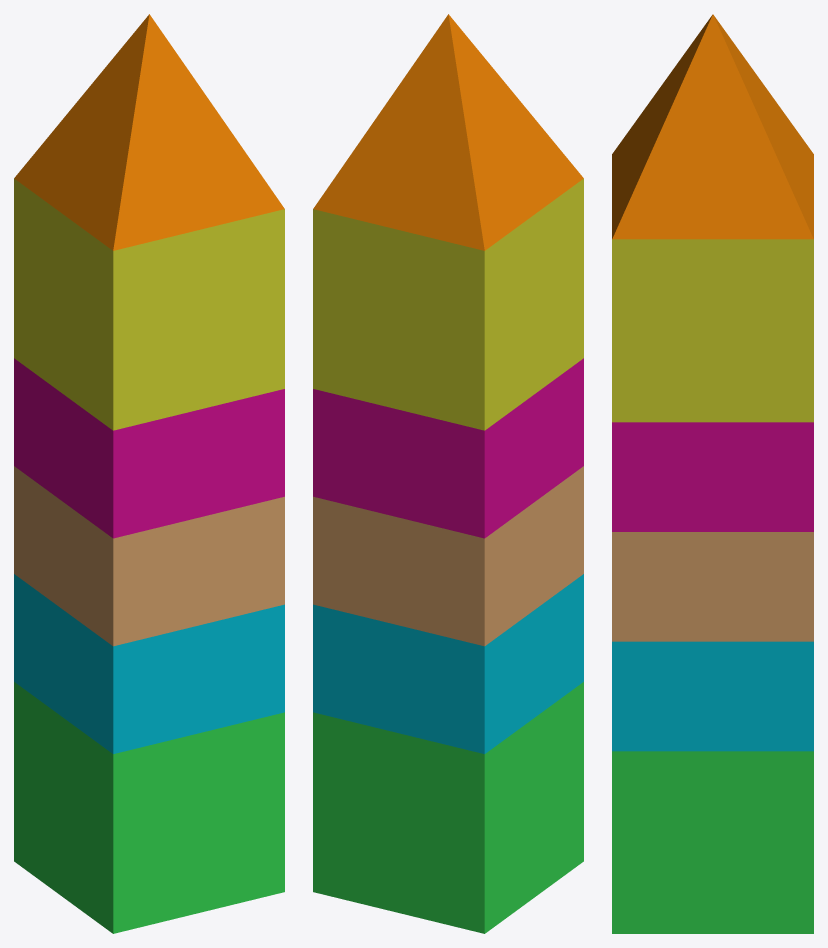
Rendered from testMaterial.fbx.
3 renders of one model, left to right at view 1: azimuth 30°, elevation 25°; view 2: azimuth 150°, elevation 25°; view 3: azimuth 270°, elevation 25°, orthographic.
Parts seen in each view (by area): view 1: Clock, Base.001, Roof, Floor3, Floor2, Floor1; view 2: Clock, Base.001, Roof, Floor3, Floor2, Floor1; view 3: Clock, Base.001, Roof, Floor1, Floor2, Floor3.
Boxes of the visible parts, bbox=[...] form: Clock: bbox=[14, 178, 284, 430]; Base.001: bbox=[14, 682, 284, 933]; Roof: bbox=[14, 14, 284, 250]; Floor3: bbox=[14, 358, 284, 538]; Floor2: bbox=[14, 466, 284, 646]; Floor1: bbox=[14, 574, 284, 754]; Clock: bbox=[313, 178, 583, 430]; Base.001: bbox=[313, 682, 583, 933]; Roof: bbox=[313, 14, 583, 250]; Floor3: bbox=[313, 358, 583, 538]; Floor2: bbox=[313, 466, 583, 646]; Floor1: bbox=[313, 574, 583, 754]; Clock: bbox=[612, 239, 813, 422]; Base.001: bbox=[612, 751, 813, 933]; Roof: bbox=[612, 14, 813, 239]; Floor1: bbox=[612, 641, 813, 751]; Floor2: bbox=[612, 532, 813, 641]; Floor3: bbox=[612, 422, 813, 531].
Bounding box in the file's own units: 100 × 480 × 100.
